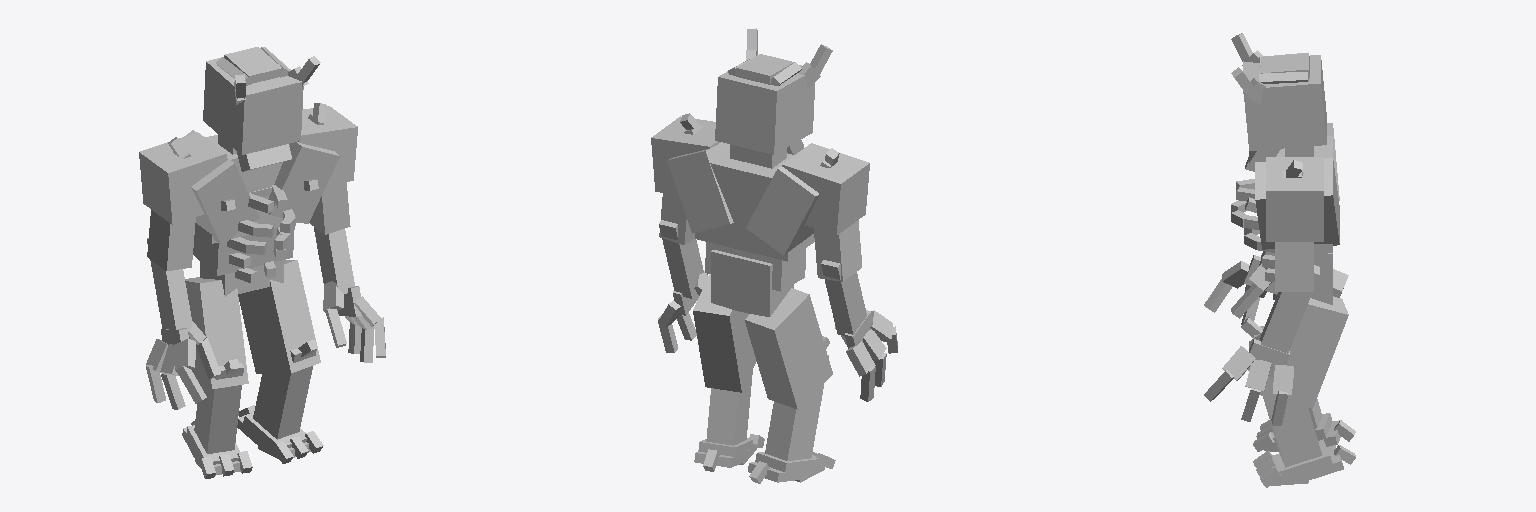
The model's file is belph.obj.
The picture shows the model from 3 angles: view 1: azimuth 30°, elevation 25°; view 2: azimuth 150°, elevation 25°; view 3: azimuth 270°, elevation 25°; orthographic projection.
Visible parts, largest first — view 1: Body, LegLeft, Head, LegRight, ArmRightLower, ArmLeftLower, ArmRightUpper, ArmLeftUpper, Mouth; view 2: Body, LegRight, Head, LegLeft, ArmRightLower, ArmLeftLower, ArmRightUpper, ArmLeftUpper; view 3: Body, LegLeft, Head, ArmLeftLower, ArmRightLower, LegRight, ArmLeftUpper.
Part boxes in pixels (bbox=[...]): Body: bbox=[139, 103, 357, 296]; LegLeft: bbox=[237, 260, 323, 463]; Head: bbox=[203, 47, 320, 154]; LegRight: bbox=[182, 277, 252, 478]; ArmRightLower: bbox=[146, 238, 220, 409]; ArmLeftLower: bbox=[314, 227, 385, 362]; ArmRightUpper: bbox=[147, 210, 195, 270]; ArmLeftUpper: bbox=[309, 182, 350, 234]; Mouth: bbox=[237, 144, 291, 171]; Body: bbox=[651, 113, 869, 316]; LegRight: bbox=[745, 288, 835, 483]; Head: bbox=[715, 28, 832, 168]; LegLeft: bbox=[693, 274, 764, 471]; ArmRightLower: bbox=[821, 260, 897, 401]; ArmLeftLower: bbox=[658, 220, 708, 352]; ArmRightUpper: bbox=[814, 220, 861, 281]; ArmLeftUpper: bbox=[659, 193, 694, 244]; Body: bbox=[1231, 123, 1339, 304]; LegLeft: bbox=[1248, 296, 1355, 487]; Head: bbox=[1231, 33, 1326, 156]; ArmLeftLower: bbox=[1204, 265, 1319, 425]; ArmRightLower: bbox=[1204, 251, 1277, 324]; LegRight: bbox=[1241, 269, 1355, 451]; ArmLeftUpper: bbox=[1275, 242, 1313, 291].
Size of the model in its own units: 1.34 by 2.44 by 0.8257.